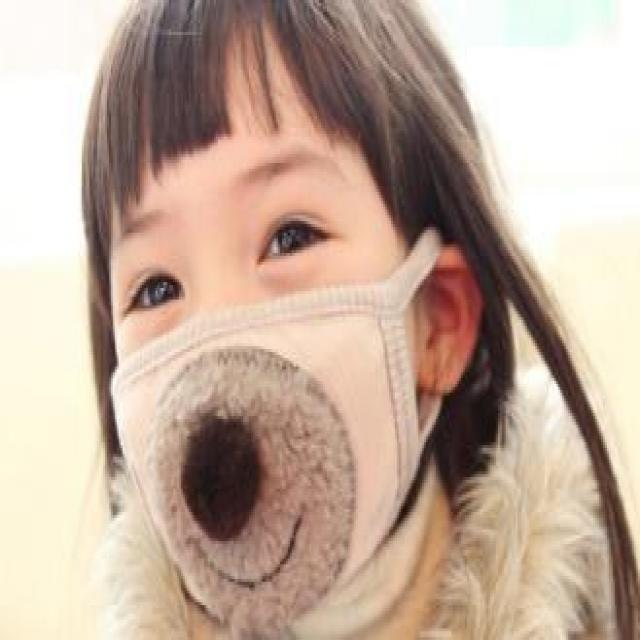mask: (97, 89, 397, 598)
